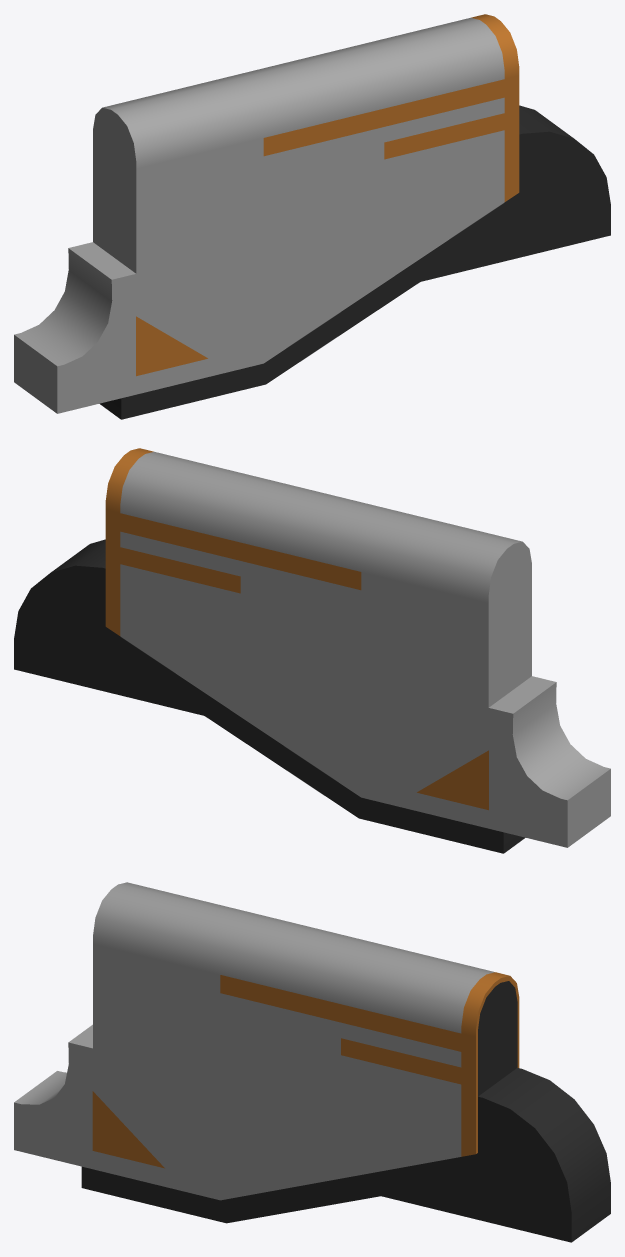
The model's file is Body_Grenade_1.glb.
3 views of the same model, one above another, from view 1: azimuth 30°, elevation 25°; view 2: azimuth 150°, elevation 25°; view 3: azimuth 330°, elevation 25° (orthographic).
Parts seen in each view (by area): view 1: Body_Grenade_1; view 2: Body_Grenade_1; view 3: Body_Grenade_1.
Part boxes in pixels (x1,y1,x2,y2): Body_Grenade_1: (14,14,610,419); Body_Grenade_1: (14,448,610,853); Body_Grenade_1: (14,882,610,1242).
Bounding box in the file's own units: 0.8098 × 0.4037 × 0.1094.
